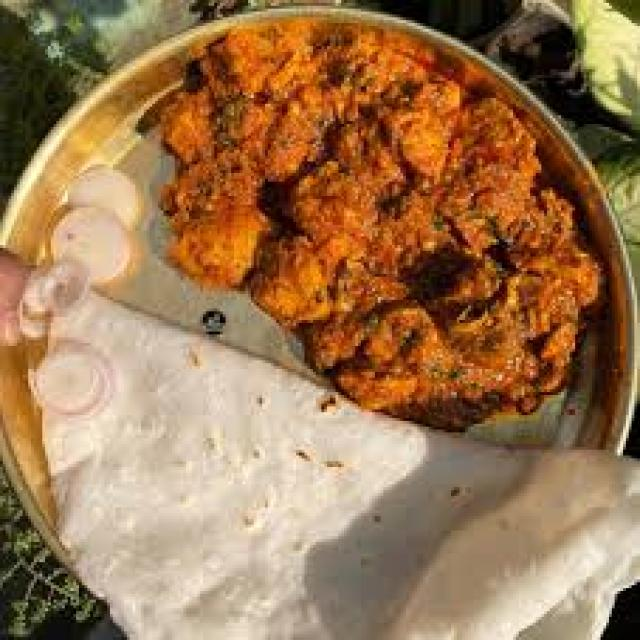BAJI: (158, 17, 601, 421)
RICE BHAKRI: (28, 285, 637, 637)
